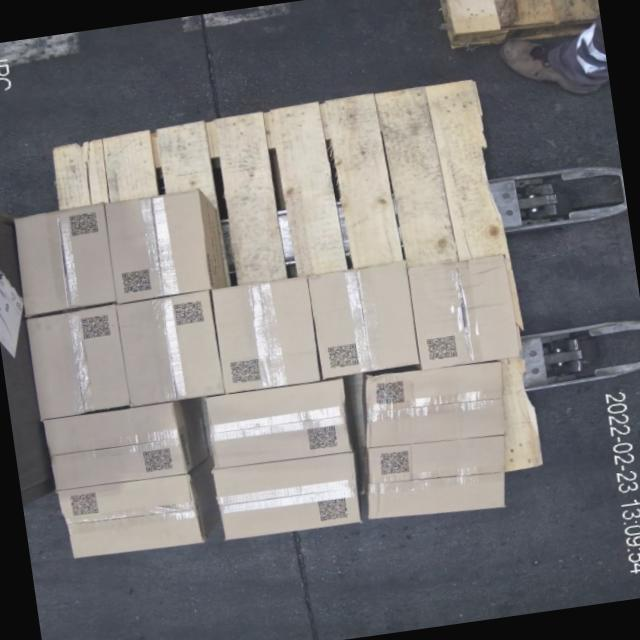box: (358, 350, 514, 453), (359, 424, 515, 524), (215, 449, 365, 539), (208, 377, 356, 467), (407, 252, 521, 368), (213, 274, 325, 391), (60, 470, 204, 561), (310, 259, 421, 375), (46, 397, 187, 488), (105, 187, 214, 301), (118, 289, 225, 403), (27, 303, 132, 416), (13, 203, 118, 313)
